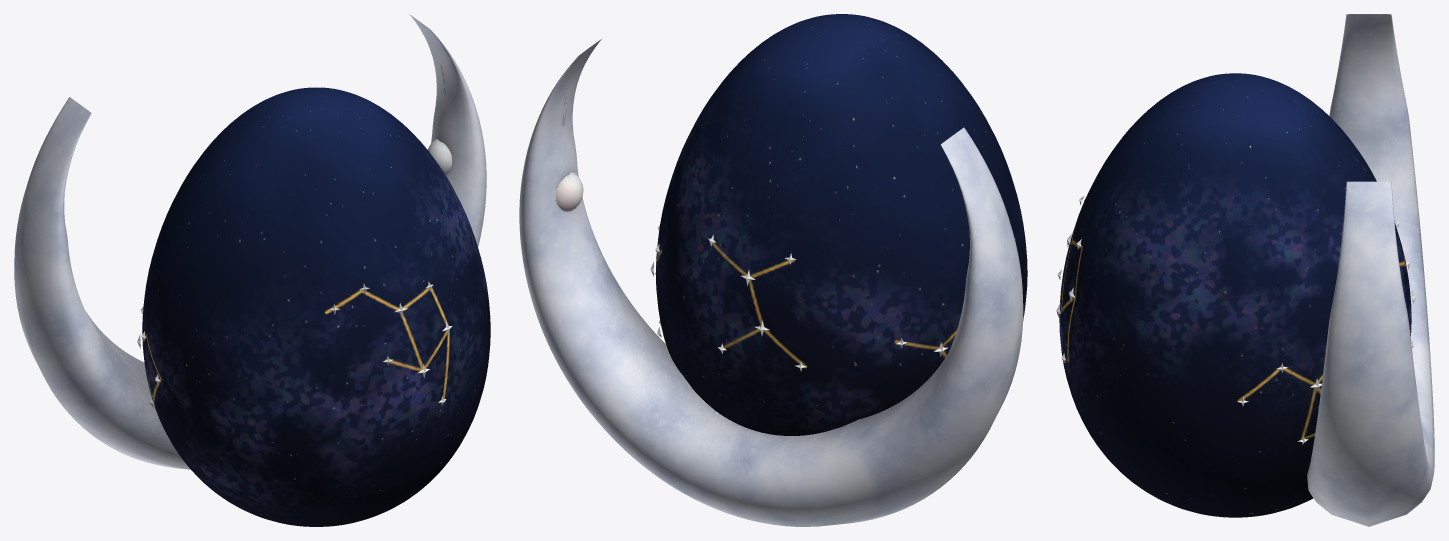
Rendered from CelestialEgg.fbx.
3 views of the same model, side by side, from view 1: azimuth 30°, elevation 25°; view 2: azimuth 150°, elevation 25°; view 3: azimuth 270°, elevation 25° (orthographic). The views are drawn at different scales.
Parts seen in each view (by area): view 1: CelestialEgg_Body, CelestialEgg_Glow_ffc23a; view 2: CelestialEgg_Body; view 3: CelestialEgg_Body, CelestialEgg_Glow_ffc23a.
Part boxes in pixels (<box>): CelestialEgg_Body: <box>14,14,490,526</box>; CelestialEgg_Glow_ffc23a: <box>137,281,452,417</box>; CelestialEgg_Body: <box>519,14,1027,526</box>; CelestialEgg_Body: <box>1059,14,1434,526</box>; CelestialEgg_Glow_ffc23a: <box>1056,196,1415,444</box>.
Size of the model in its own units: 3.12 by 2.7 by 2.21.
2 materials, 1 textured.
